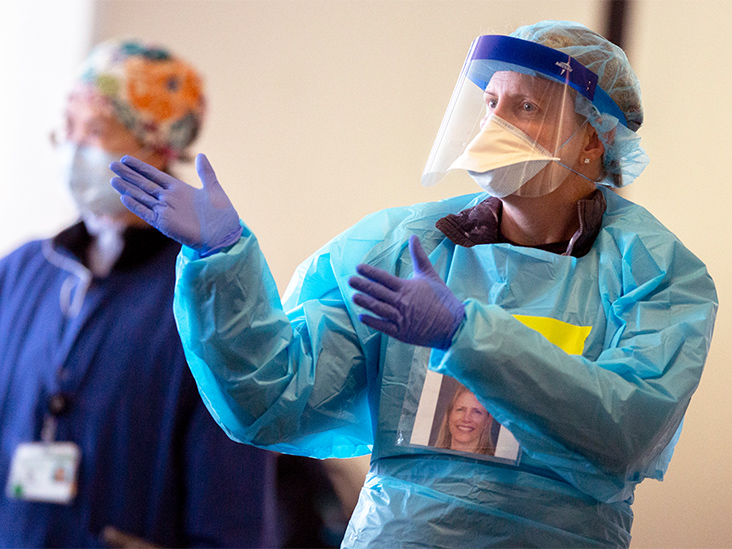glove: (105, 149, 238, 259), (345, 233, 464, 349)
